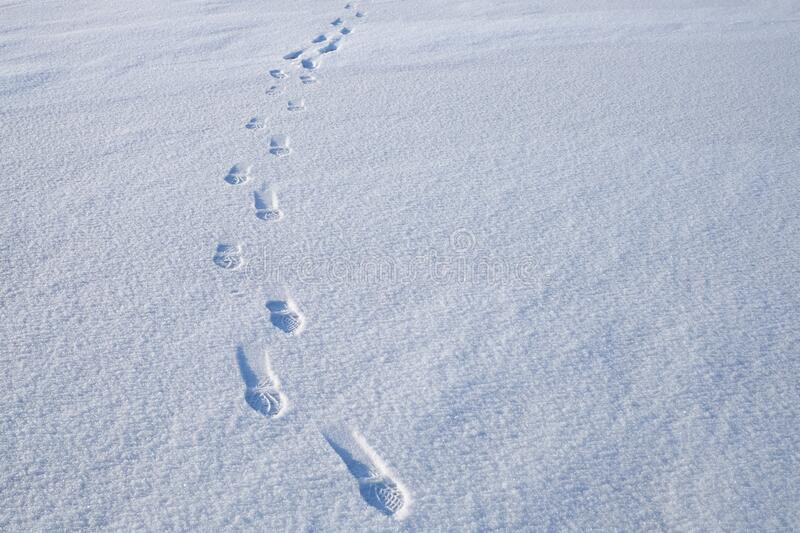human_foot_print: (313, 406, 416, 526), (223, 341, 286, 425), (262, 291, 308, 333), (203, 238, 248, 277), (250, 180, 283, 221), (217, 158, 247, 184), (266, 134, 291, 154), (243, 113, 263, 130)
